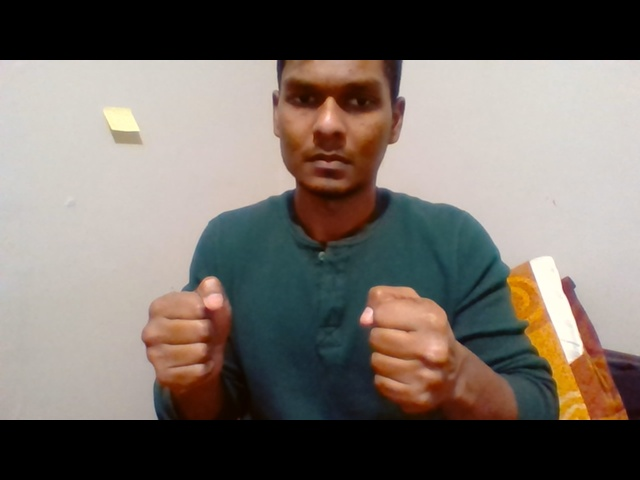ItisCool: (140, 277, 464, 415)
